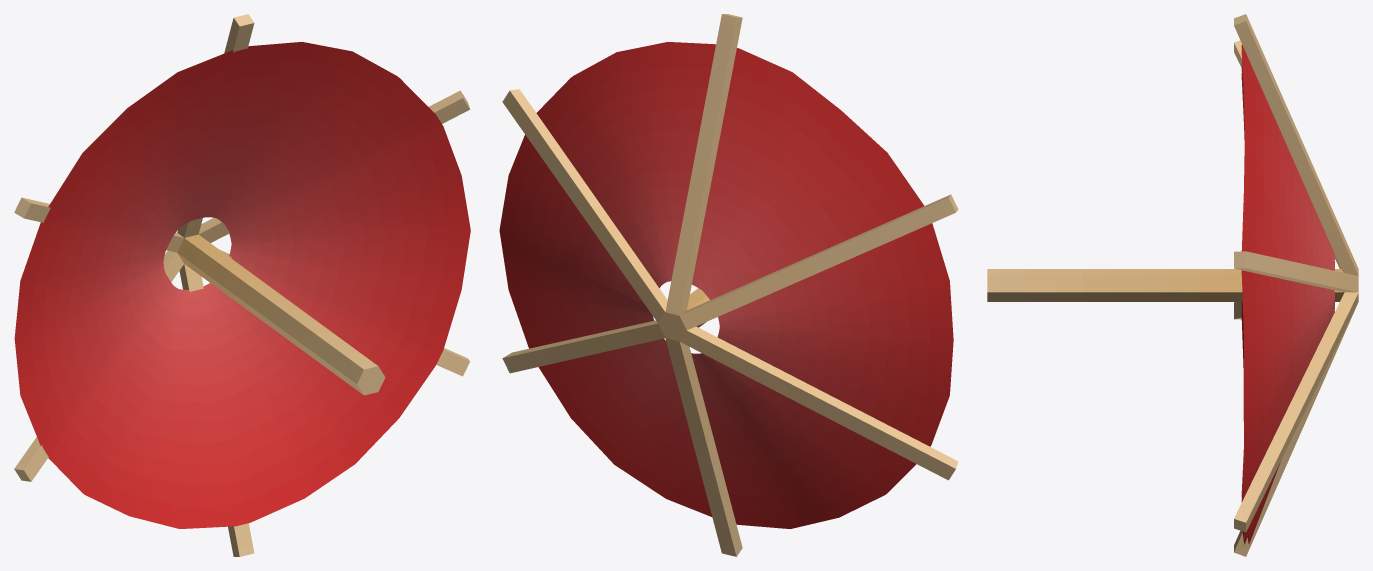
The model's file is Umbrella.fbx.
3 renders of one model, left to right at view 1: azimuth 30°, elevation 25°; view 2: azimuth 150°, elevation 25°; view 3: azimuth 270°, elevation 25°, orthographic.
Parts seen in each view (by area): view 1: Cone.002; view 2: Cone.002; view 3: Cone.002.
Boxes of the visible parts, box(x1,y1,x2,y2) form: Cone.002: box(14, 14, 470, 556); Cone.002: box(499, 14, 958, 556); Cone.002: box(987, 14, 1358, 556).
Size of the model in its own units: 7.96 by 9.01 by 5.66.
